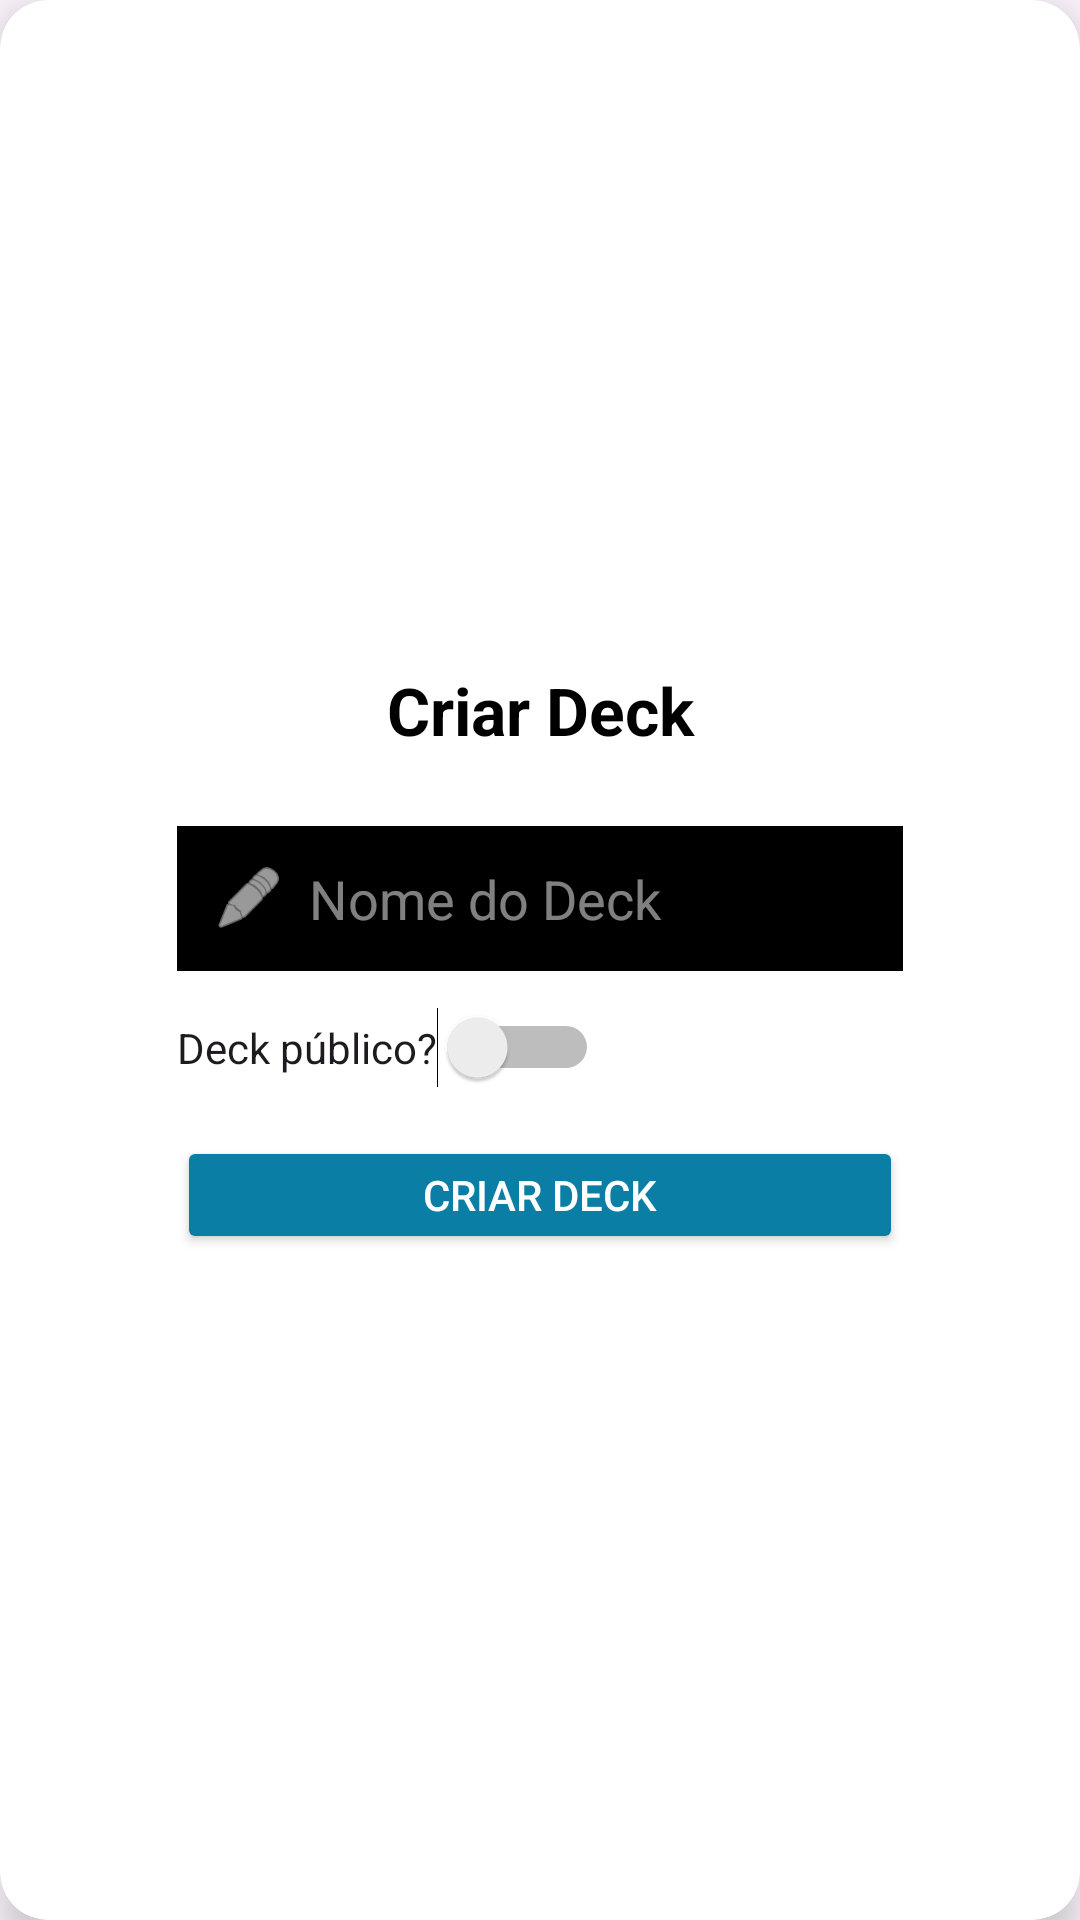

Point at icon controls on the screen. Image size 1080*1920, points as point (x, y).
edit: point (248, 897)
